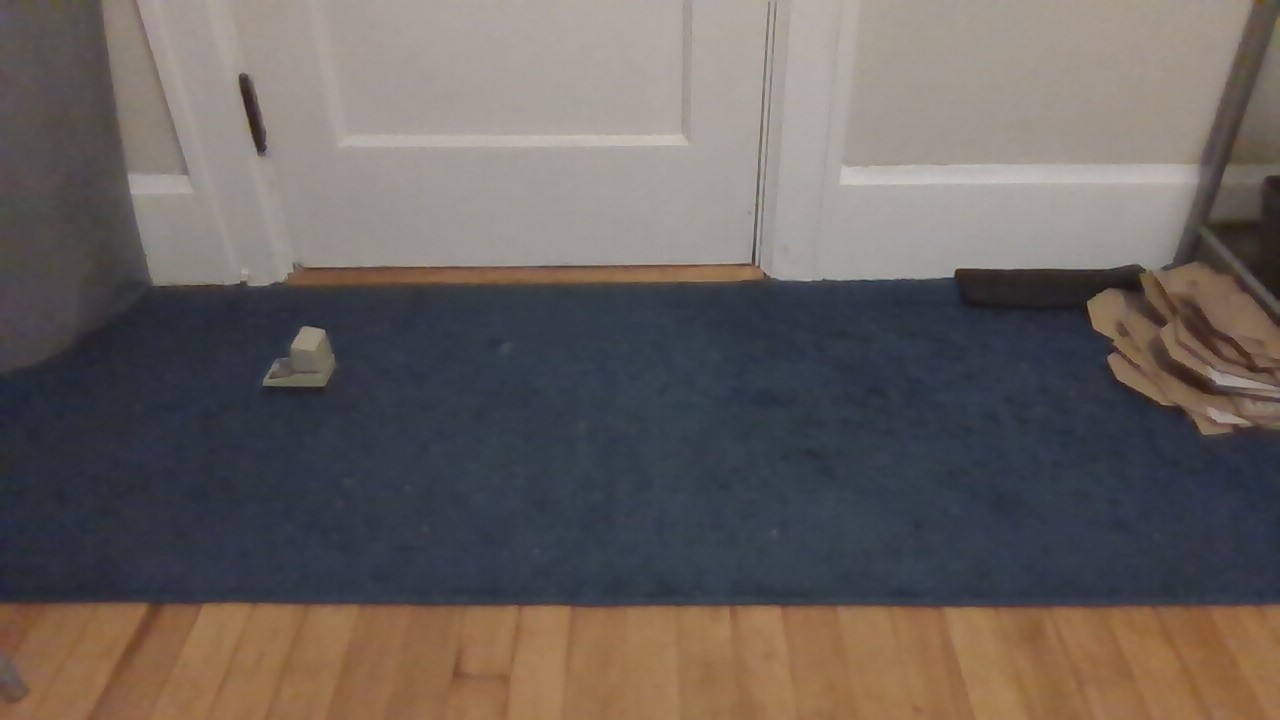Toy: (253, 314, 347, 398)
